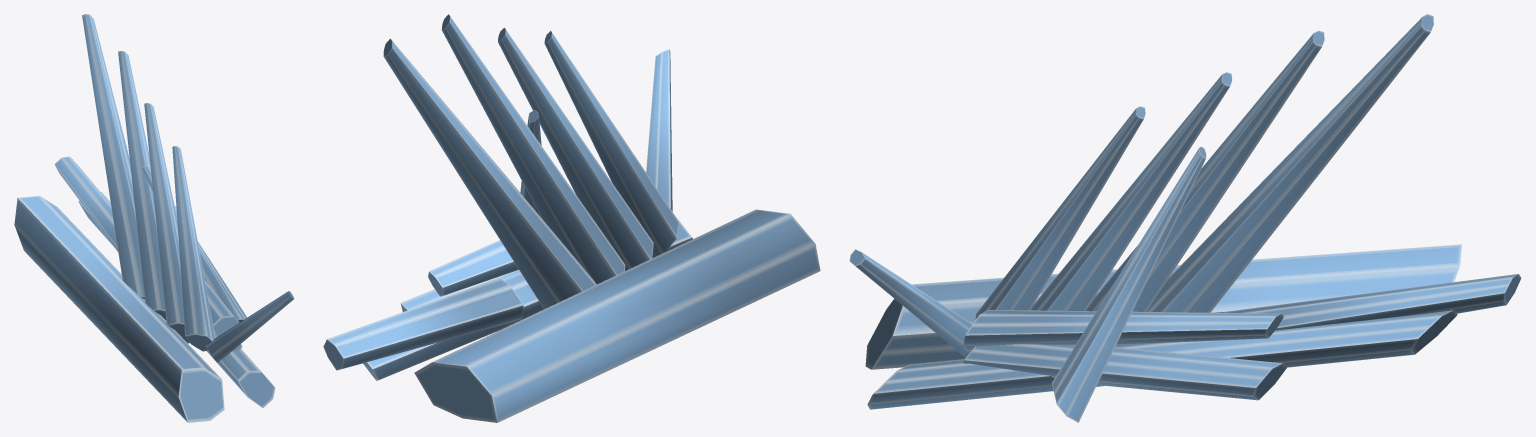
File: wall_railing_02.fbx
The picture shows the model from 3 angles, left to right: view 1: azimuth 30°, elevation 25°; view 2: azimuth 150°, elevation 25°; view 3: azimuth 270°, elevation 25°; orthographic projection. The views are drawn at different scales.
Visible parts, largest first — view 1: wall_railing_02; view 2: wall_railing_02; view 3: wall_railing_02.
Part boxes in pixels (x1,y1,x2,y2): wall_railing_02: (14, 14, 294, 422); wall_railing_02: (323, 14, 820, 422); wall_railing_02: (849, 14, 1521, 422).
Size of the model in its own units: 0.5119 by 0.9562 by 1.46.
1 material, 1 textured.
